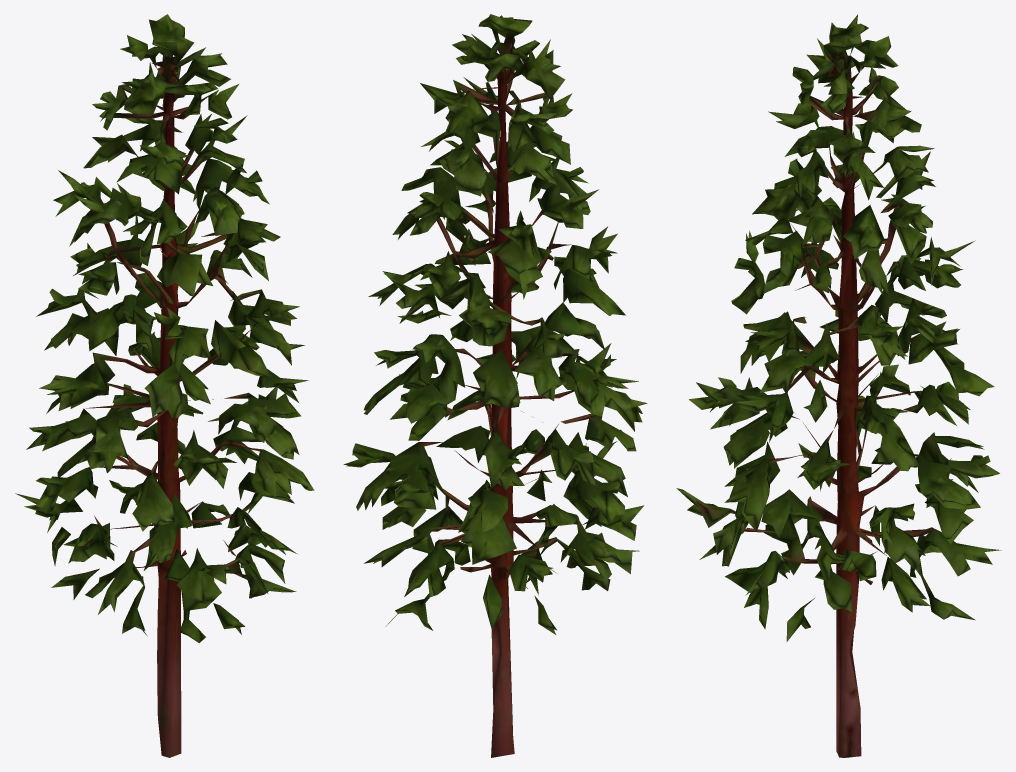
Rendered from cedar-a.glb.
3 renders of one model, left to right at view 1: azimuth 30°, elevation 25°; view 2: azimuth 150°, elevation 25°; view 3: azimuth 270°, elevation 25°, orthographic.
Parts seen in each view (by area): view 1: tripo_node_f779601c-78d7-4914-aff3-93185df5450b; view 2: tripo_node_f779601c-78d7-4914-aff3-93185df5450b; view 3: tripo_node_f779601c-78d7-4914-aff3-93185df5450b.
Boxes of the visible parts, x1,y1,x2,y2 form: tripo_node_f779601c-78d7-4914-aff3-93185df5450b: (15,14,314,757); tripo_node_f779601c-78d7-4914-aff3-93185df5450b: (343,14,647,757); tripo_node_f779601c-78d7-4914-aff3-93185df5450b: (676,14,1001,757).
Bounding box in the file's own units: 0.3723 × 0.9876 × 0.3982.
1 material, 1 textured.
